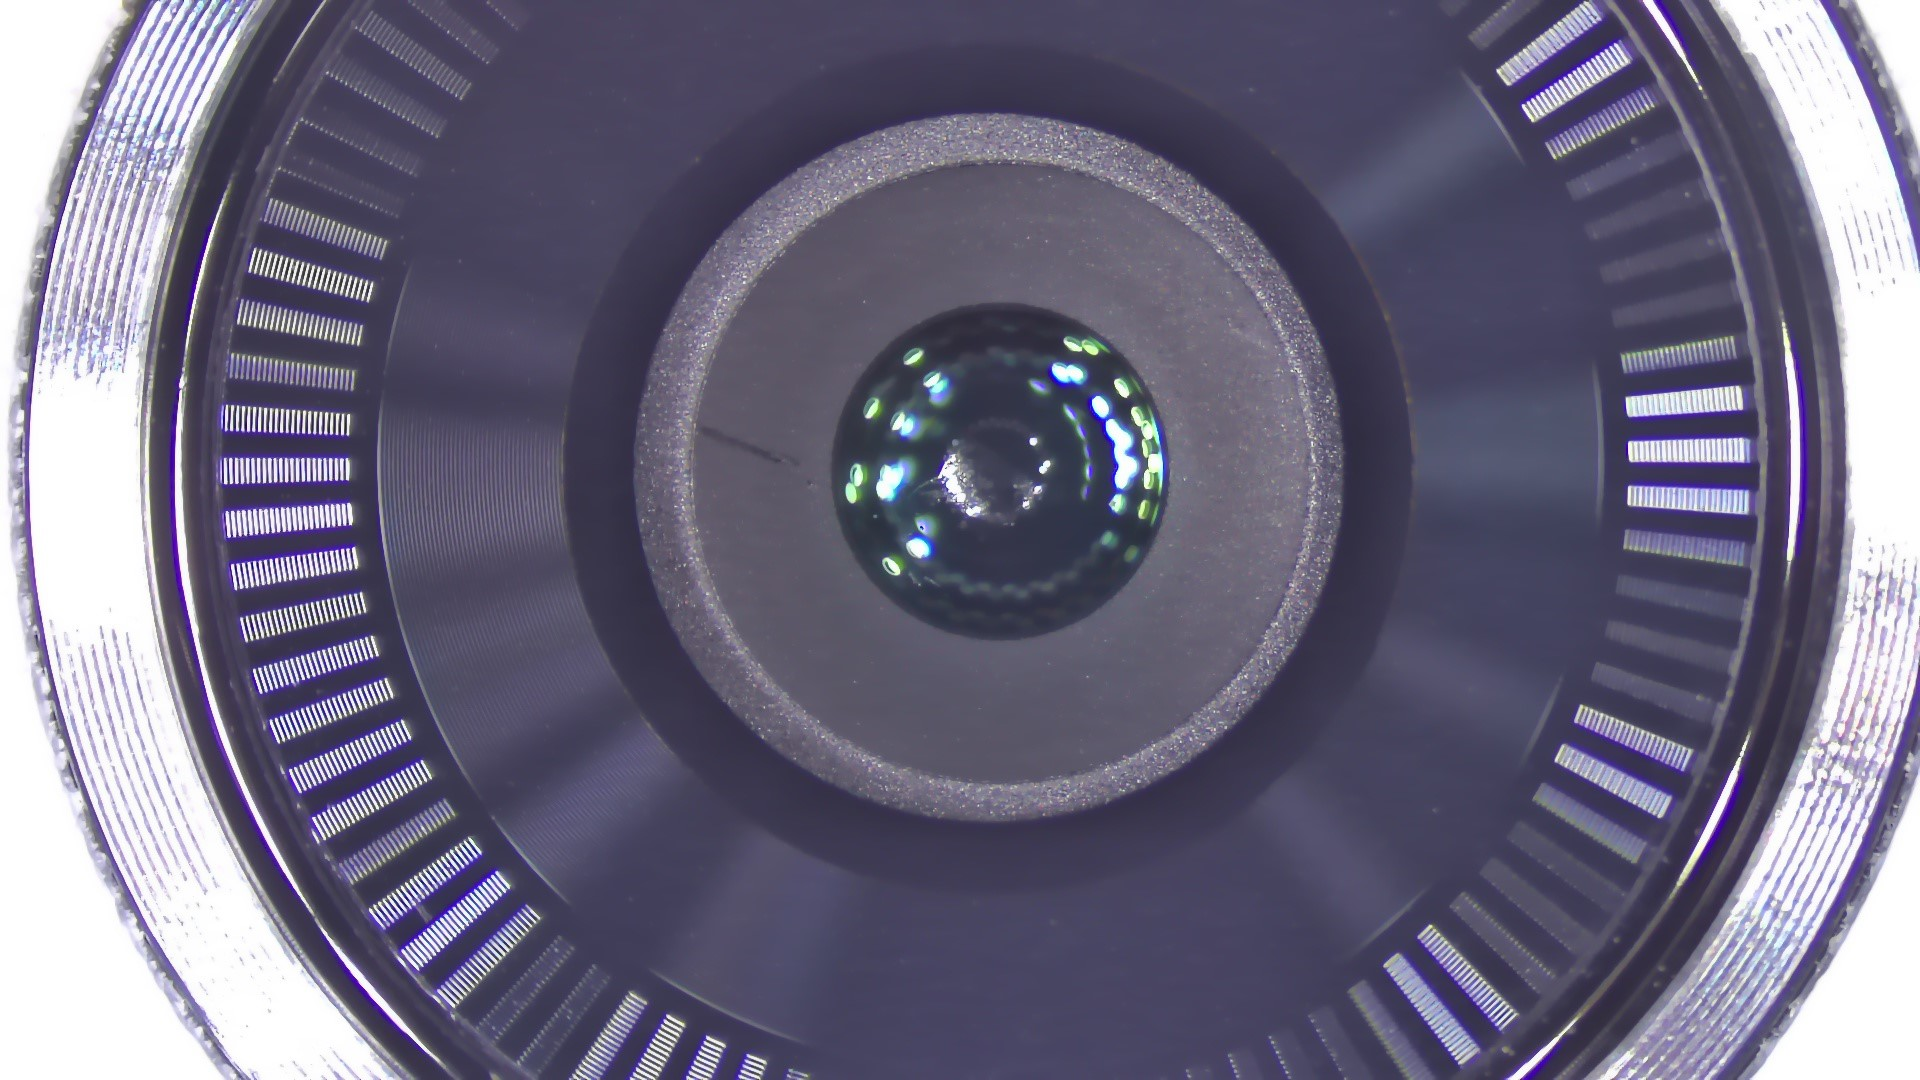crack: (676, 397, 825, 488)
